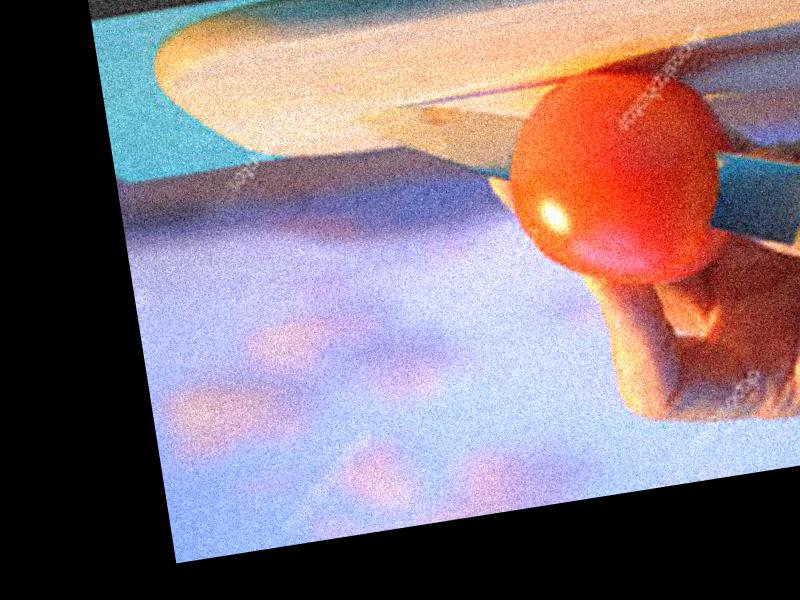Tomato: (491, 49, 748, 301)
